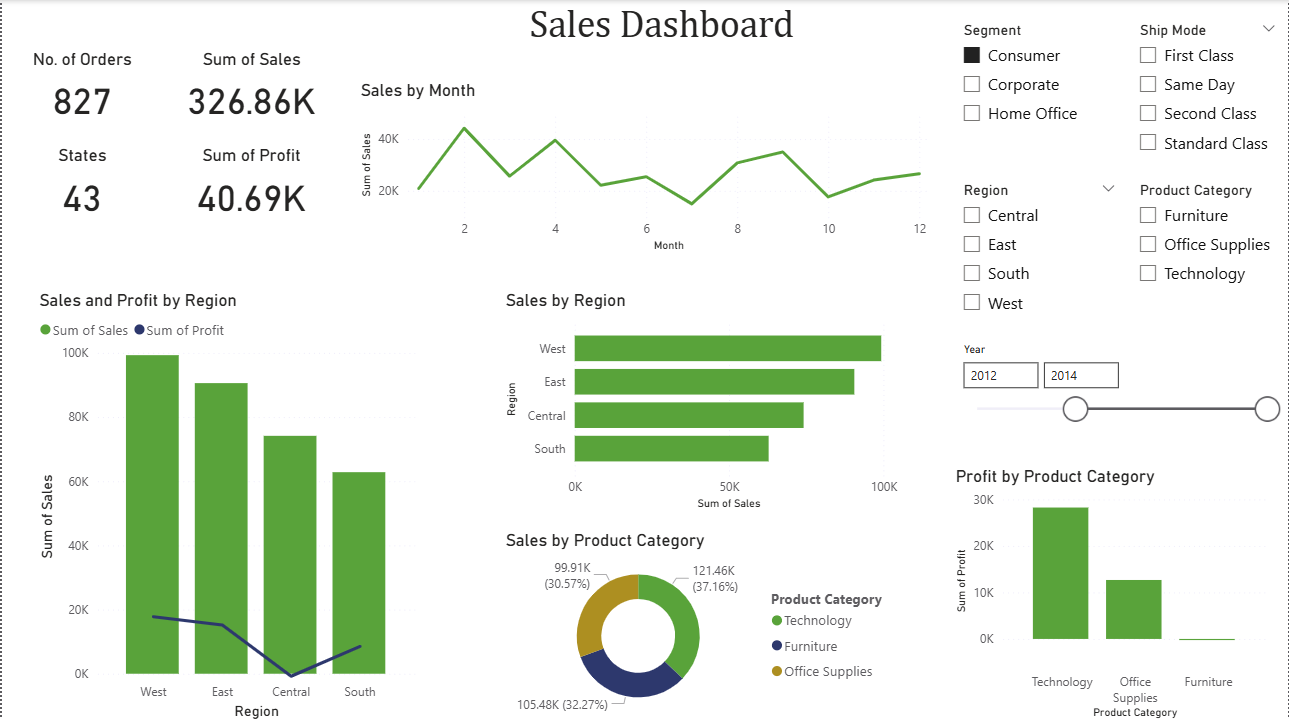

The page's visual inventory and layout, read from the dashboard file:
{"tool":"powerbi","page":{"name":"Page 1","canvas":[1280,720],"ordinal":0},"visuals":[{"type":"card","title":"No. of Orders","fields":{"Values":["Count(Superstore_sales.Order ID)"]},"box":[0,48,160,80],"z":0},{"type":"card","title":"Sum of Sales","fields":{"Values":["Sum(Superstore_sales.Sales)"]},"box":[160,48,176,80],"z":1000},{"type":"card","title":"Sum of Profit","fields":{"Values":["Sum(Superstore_sales.Profit)"]},"box":[160,144,176,80],"z":2000},{"type":"card","title":"States","fields":{"Values":["Count(Superstore_sales.State)"]},"box":[0,144,160,80],"z":3000},{"type":"slicer","fields":{"Values":["Superstore_sales.Product Category"]},"box":[1120,176,160,160],"z":3001},{"type":"slicer","fields":{"Values":["Superstore_sales.Region"]},"box":[944,176,176,160],"z":3002},{"type":"slicer","fields":{"Values":["Superstore_sales.Ship Mode"]},"box":[1120,16,160,160],"z":3003},{"type":"slicer","fields":{"Values":["Superstore_sales.Segment"]},"box":[944,16,176,160],"z":3004},{"type":"lineChart","title":"Sales by Month","fields":{"Category":["Superstore_sales.Month"],"Y":["Sum(Superstore_sales.Sales)"]},"box":[352,80,576,176],"z":3005},{"type":"slicer","fields":{"Values":["Superstore_sales.Year"]},"box":[944,336,336,96],"z":3006},{"type":"clusteredBarChart","title":"Sales by Region","fields":{"Category":["Superstore_sales.Region"],"Y":["Sum(Superstore_sales.Sales)"]},"box":[496,288,400,224],"z":3007},{"type":"donutChart","title":"Sales by Product Category","fields":{"Category":["Superstore_sales.Product Category"],"Y":["Sum(Superstore_sales.Sales)"]},"box":[496,528,400,192],"z":3008},{"type":"lineClusteredColumnComboChart","title":"Sales and Profit by Region","fields":{"Y":["Sum(Superstore_sales.Sales)"],"Category":["Superstore_sales.Region"],"Y2":["Sum(Superstore_sales.Profit)"]},"box":[32,288,384,432],"z":3009},{"type":"clusteredColumnChart","title":"Profit by Product Category","fields":{"Category":["Superstore_sales.Product Category"],"Y":["Sum(Superstore_sales.Profit)"]},"box":[944,464,320,256],"z":3010},{"type":"textbox","box":[400,0,512,64],"z":3011}]}

Visuals, with their boxes in screenshot pixels (x1, y1, x2, y2), scaled from the page's 1280x720 canvas onto the 1289x719 screenshot:
"No. of Orders" card: x1=0 y1=48 x2=161 y2=128
"Sum of Sales" card: x1=161 y1=48 x2=338 y2=128
"Sum of Profit" card: x1=161 y1=144 x2=338 y2=224
"States" card: x1=0 y1=144 x2=161 y2=224
slicer - Superstore_sales.Product Category: x1=1128 y1=176 x2=1288 y2=336
slicer - Superstore_sales.Region: x1=951 y1=176 x2=1128 y2=336
slicer - Superstore_sales.Ship Mode: x1=1128 y1=16 x2=1288 y2=176
slicer - Superstore_sales.Segment: x1=951 y1=16 x2=1128 y2=176
"Sales by Month" lineChart: x1=354 y1=80 x2=935 y2=256
slicer - Superstore_sales.Year: x1=951 y1=336 x2=1288 y2=431
"Sales by Region" clusteredBarChart: x1=499 y1=288 x2=902 y2=511
"Sales by Product Category" donutChart: x1=499 y1=527 x2=902 y2=718
"Sales and Profit by Region" lineClusteredColumnComboChart: x1=32 y1=288 x2=419 y2=718
"Profit by Product Category" clusteredColumnChart: x1=951 y1=463 x2=1273 y2=718
textbox: x1=403 y1=0 x2=918 y2=64
